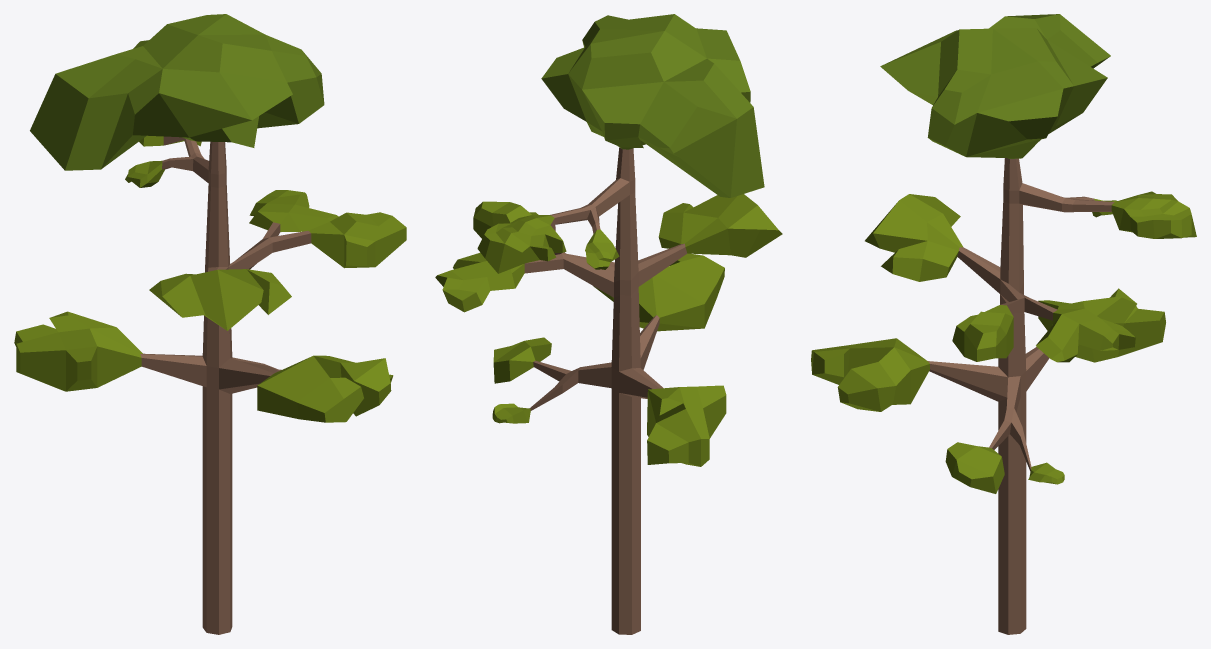
File: SissiMantyV2.fbx
3 views of the same model, side by side, from view 1: azimuth 30°, elevation 25°; view 2: azimuth 150°, elevation 25°; view 3: azimuth 270°, elevation 25° (orthographic). The views are drawn at different scales.
Parts seen in each view (by area): view 1: Cylinder; view 2: Cylinder; view 3: Cylinder.
Boxes of the visible parts, box(x1,y1,x2,y2) form: Cylinder: box(14, 14, 406, 634); Cylinder: box(435, 14, 782, 634); Cylinder: box(811, 14, 1196, 634).
Size of the model in its own units: 2404 by 4409 by 2618.
